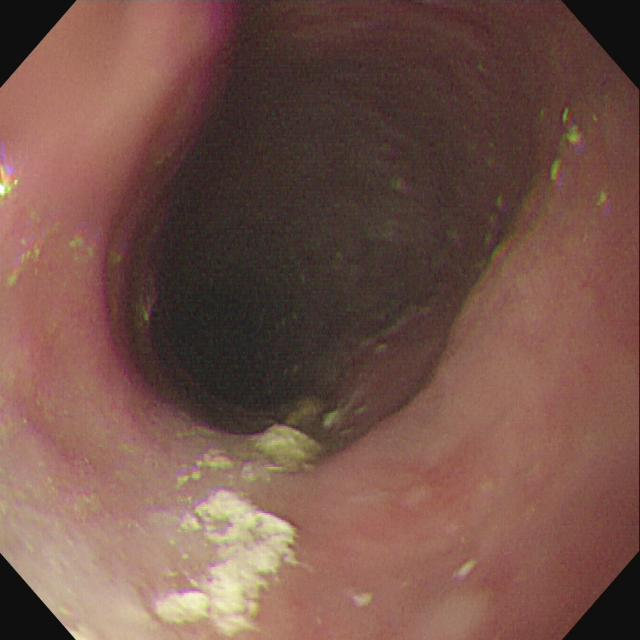E: (128, 162, 367, 429)
J: (154, 396, 352, 636)
